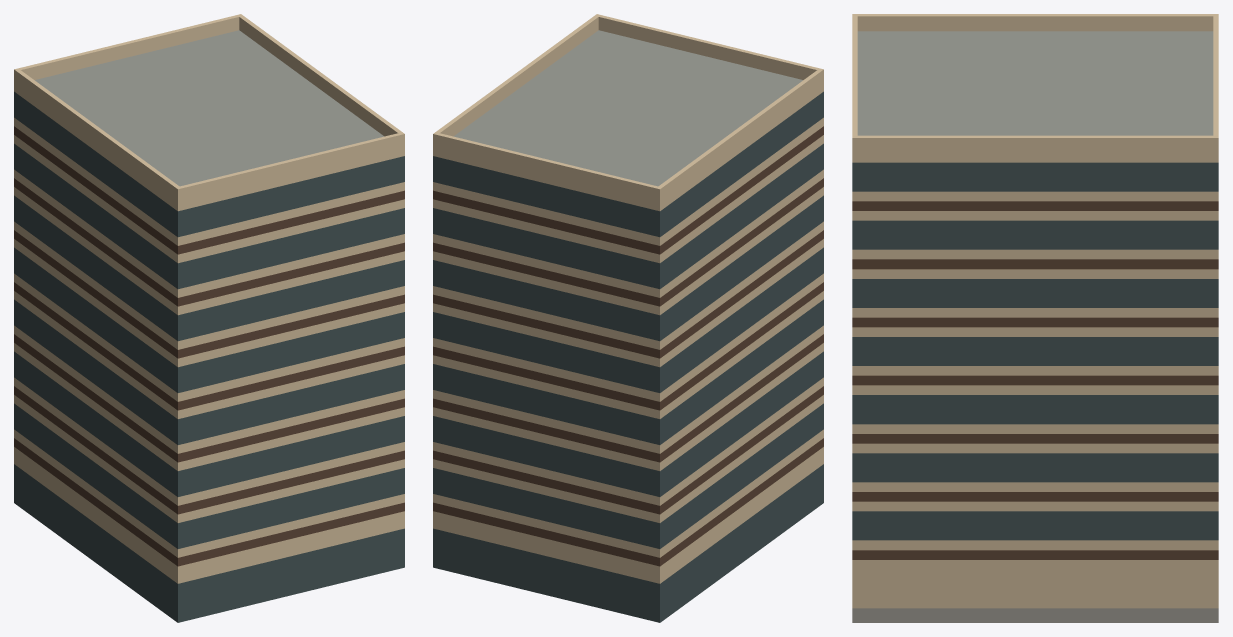
Rendered from far.fbx.
3 renders of one model, left to right at view 1: azimuth 30°, elevation 25°; view 2: azimuth 150°, elevation 25°; view 3: azimuth 270°, elevation 25°, orthographic. The views are drawn at different scales.
Visible parts, largest first — view 1: a2009/200/far; view 2: a2009/200/far; view 3: a2009/200/far.
Part boxes in pixels (x1,y1,x2,y2): a2009/200/far: (14,14,404,622); a2009/200/far: (433,14,823,622); a2009/200/far: (852,14,1218,622).
Size of the model in its own units: 16 by 29.2 by 20.
